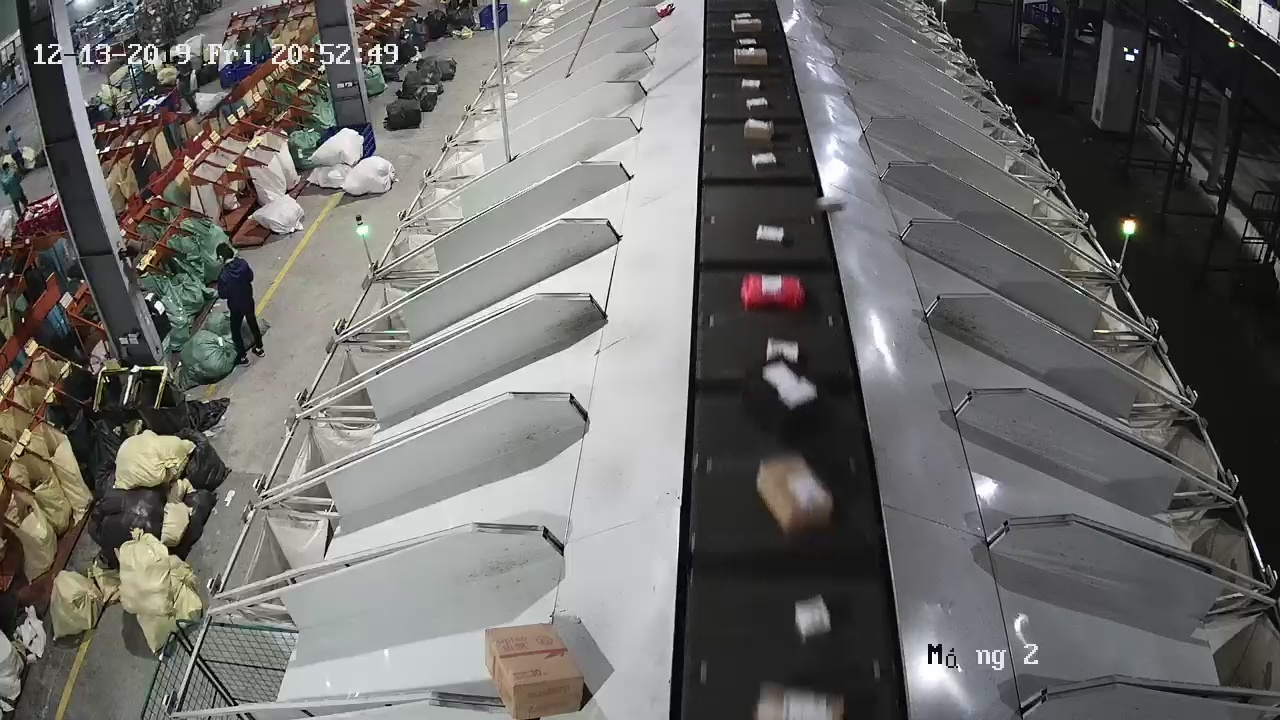parcel: (813, 193, 846, 214)
